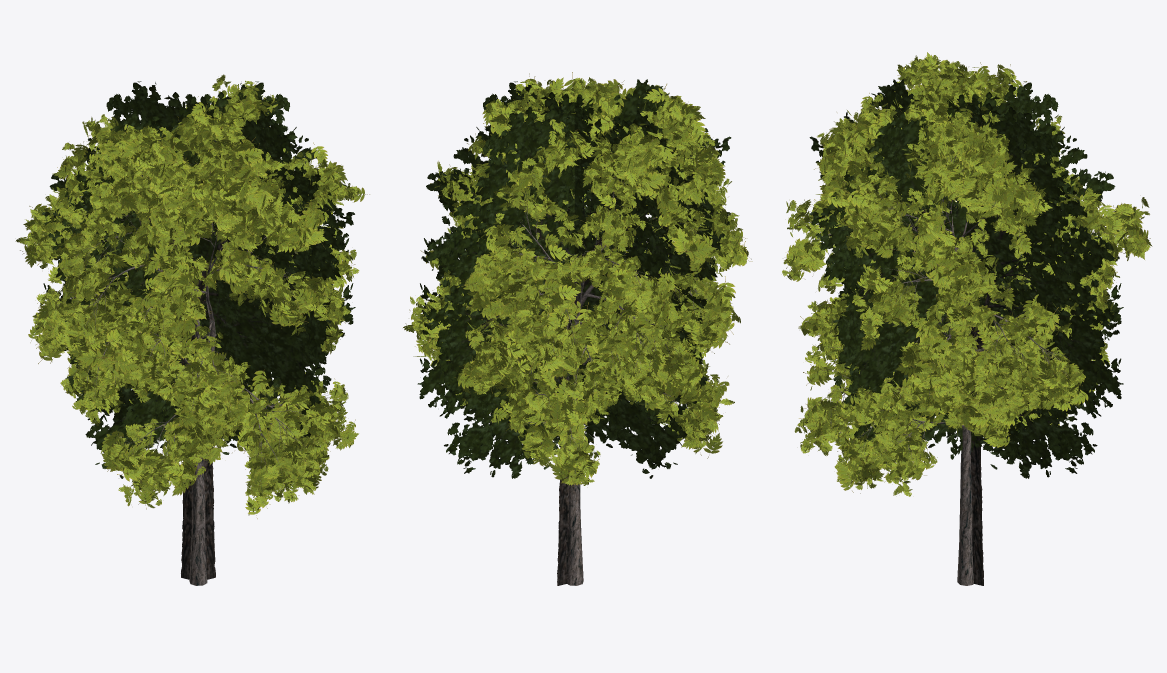
The model's file is tree_01.glb.
The picture shows the model from 3 angles, left to right: view 1: azimuth 30°, elevation 25°; view 2: azimuth 150°, elevation 25°; view 3: azimuth 270°, elevation 25°; orthographic projection.
Parts seen in each view (by area): view 1: Tree_01_LOD1, Tree_01_LOD2, Tree_01_LOD3; view 2: Tree_01_LOD2, Tree_01_LOD1, Tree_01_LOD3; view 3: Tree_01_LOD1, Tree_01_LOD2, Tree_01_LOD3.
Part boxes in pixels (x1=…): Tree_01_LOD1: x1=15, y1=74, x2=359, y2=585; Tree_01_LOD2: x1=20, y1=83, x2=369, y2=518; Tree_01_LOD3: x1=41, y1=81, x2=355, y2=579; Tree_01_LOD2: x1=403, y1=72, x2=752, y2=486; Tree_01_LOD1: x1=407, y1=77, x2=747, y2=585; Tree_01_LOD3: x1=417, y1=79, x2=731, y2=585; Tree_01_LOD1: x1=782, y1=55, x2=1150, y2=585; Tree_01_LOD2: x1=784, y1=52, x2=1152, y2=495; Tree_01_LOD3: x1=809, y1=79, x2=1123, y2=585.
Bounding box in the file's own units: 9.81 × 14.25 × 9.69.
Materials: 4 (4 with a texture image).
